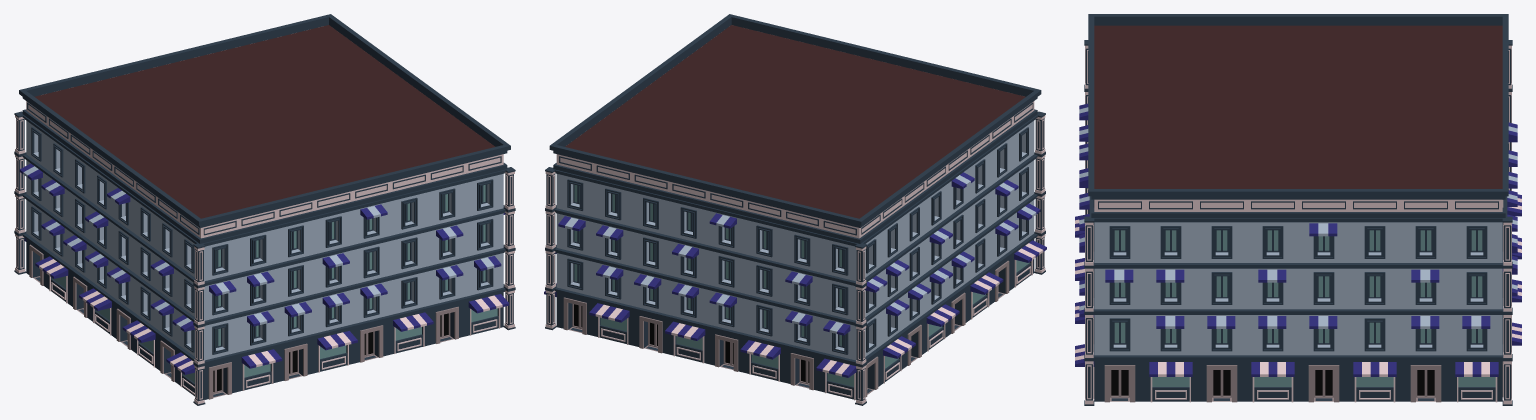
3 renders of one model, left to right at view 1: azimuth 30°, elevation 25°; view 2: azimuth 150°, elevation 25°; view 3: azimuth 270°, elevation 25°, orthographic. The views are drawn at different scales.
Parts seen in each view (by area): view 1: Procedural Building; view 2: Procedural Building; view 3: Procedural Building.
Part boxes in pixels (x1,y1,x2,y2): Procedural Building: (14, 14, 515, 405); Procedural Building: (544, 14, 1046, 405); Procedural Building: (1075, 14, 1521, 405).
Size of the model in its own units: 876 by 460 by 876.
